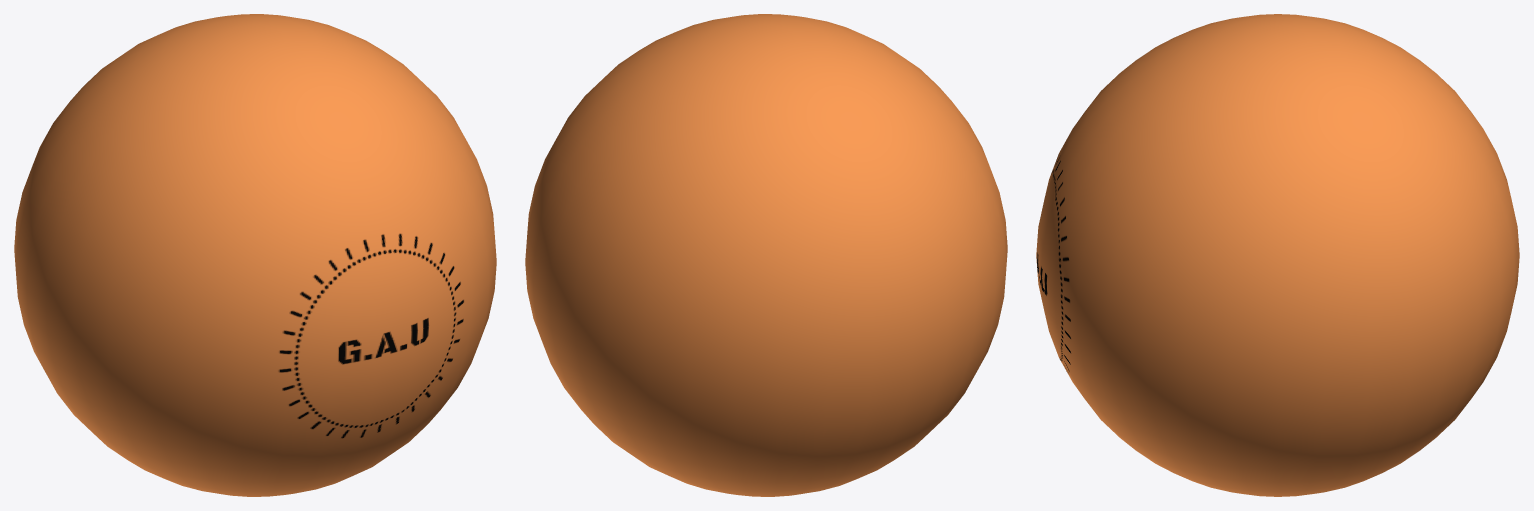
File: TT_Ball.fbx
3 renders of one model, left to right at view 1: azimuth 30°, elevation 25°; view 2: azimuth 150°, elevation 25°; view 3: azimuth 270°, elevation 25°, orthographic.
Parts seen in each view (by area): view 1: TT_Ball; view 2: TT_Ball; view 3: TT_Ball.
Boxes of the visible parts, left/top/right/bottom form: TT_Ball: left=14, top=14, right=496, bottom=496; TT_Ball: left=525, top=14, right=1007, bottom=496; TT_Ball: left=1036, top=14, right=1519, bottom=496.
Bounding box in the file's own units: 4 × 4 × 4.
1 material, 1 textured.
